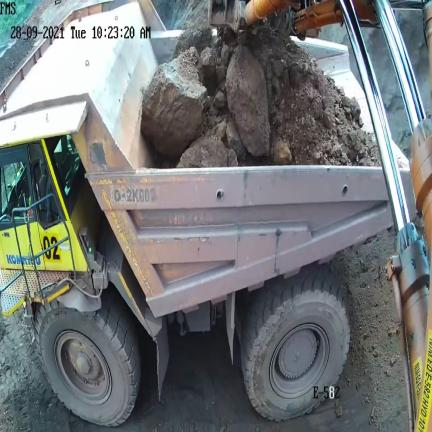pile: (141, 33, 375, 168)
